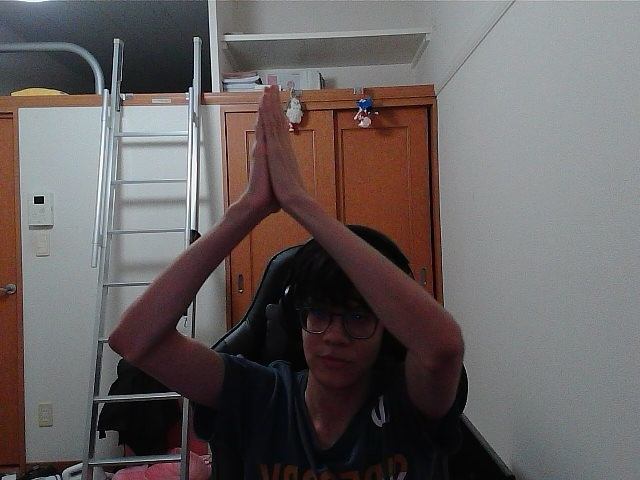pray: (265, 88, 291, 197)
